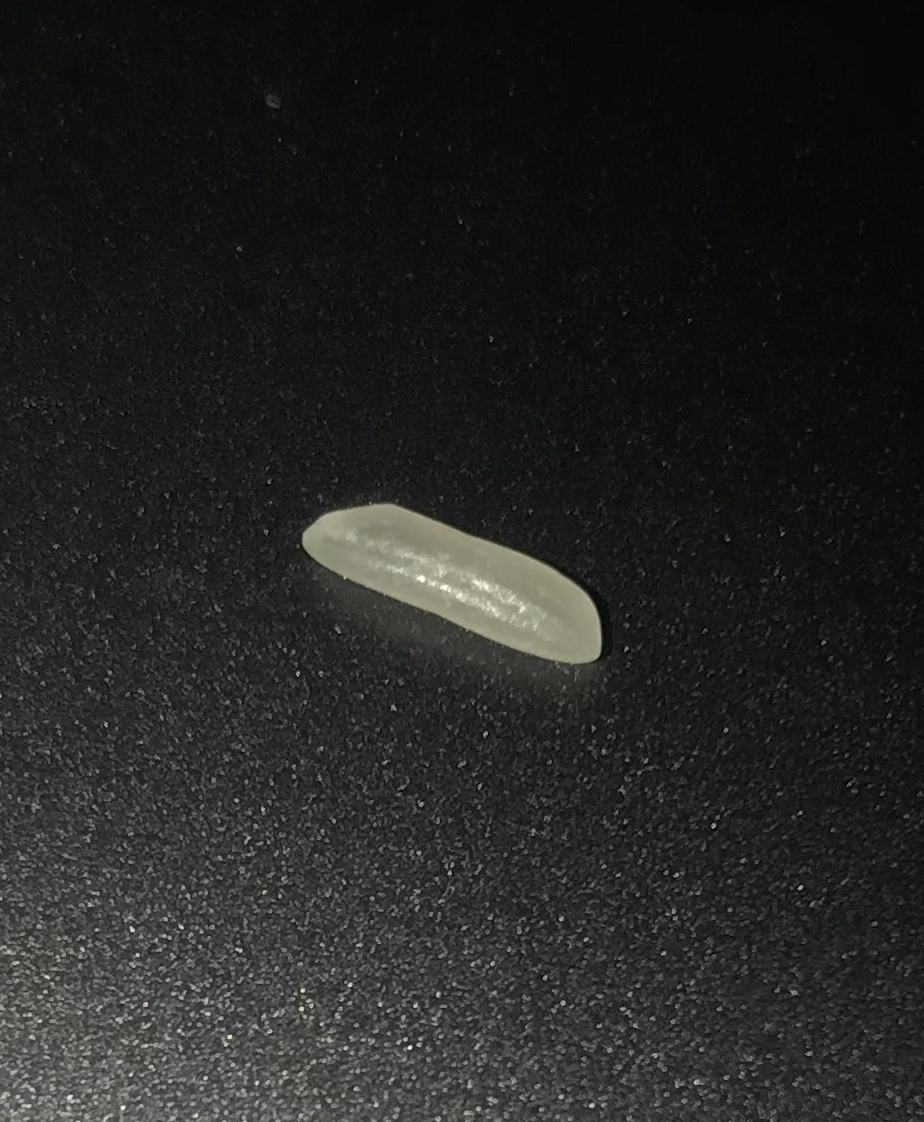Gao Thom My: (303, 484, 608, 672)
